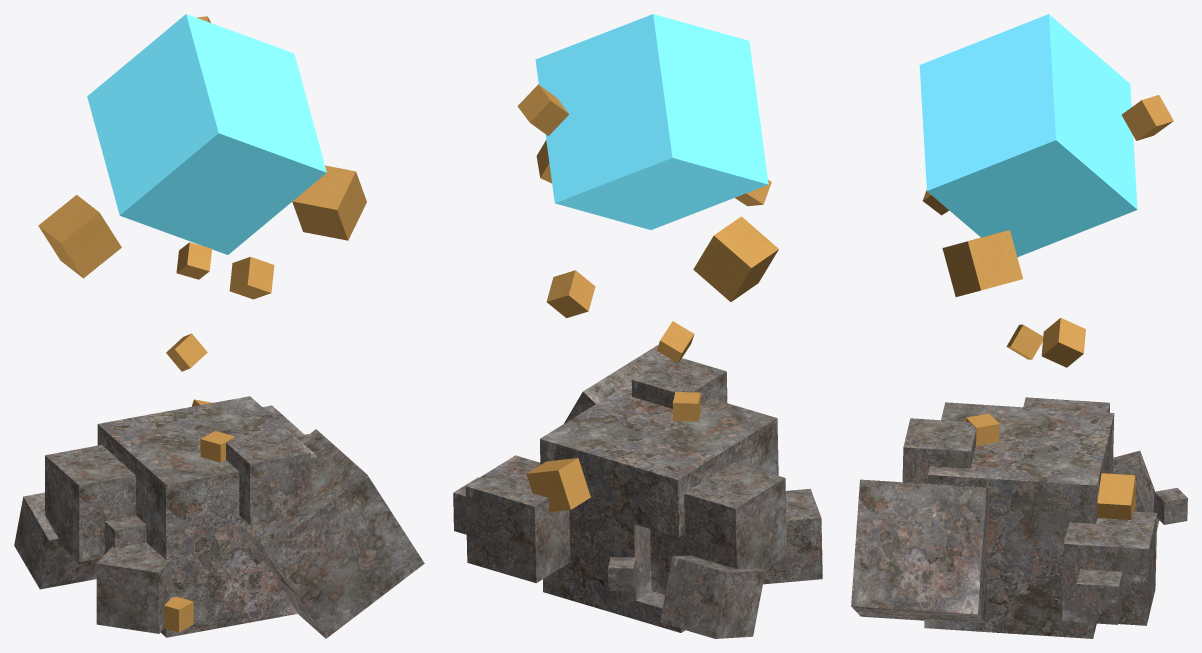
The model's file is Squares_8.glb.
The picture shows the model from 3 angles, left to right: view 1: azimuth 30°, elevation 25°; view 2: azimuth 150°, elevation 25°; view 3: azimuth 270°, elevation 25°; orthographic projection.
Visible parts, largest first — view 1: Cube.019; view 2: Cube.019; view 3: Cube.019.
Part boxes in pixels (<box>): Cube.019: <box>14,14,424,638</box>; Cube.019: <box>453,14,822,638</box>; Cube.019: <box>851,14,1187,638</box>.
Bounding box in the file's own units: 4.01 × 7.56 × 3.96.
Materials: 3 (2 with a texture image).
